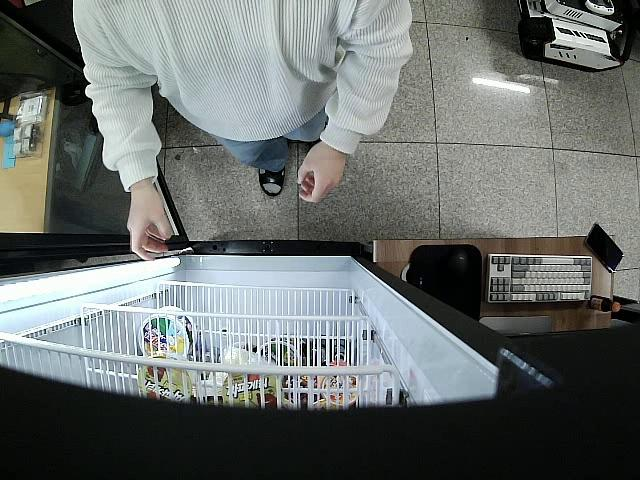00_hand: (126, 193, 173, 262), (296, 144, 345, 203)
